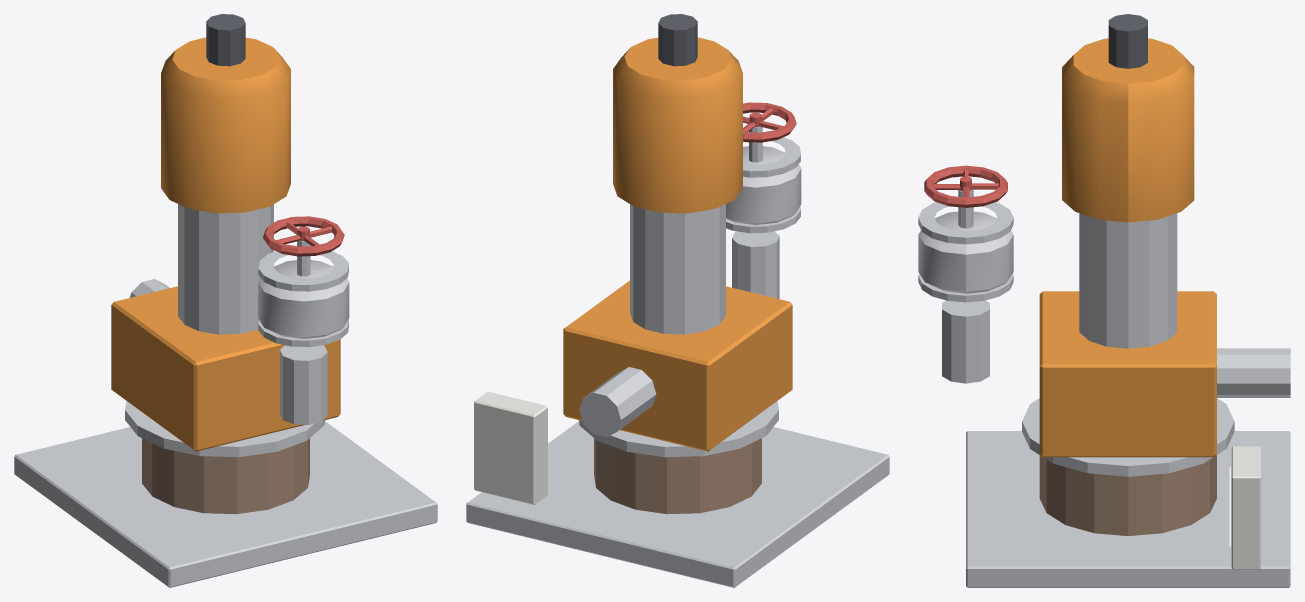
Rendered from offshore-oil-rig-and-platform-seawater-lift-pump-skid-f88eb649__37038.glb.
3 views of the same model, side by side, from view 1: azimuth 30°, elevation 25°; view 2: azimuth 150°, elevation 25°; view 3: azimuth 270°, elevation 25° (orthographic). The views are drawn at different scales.
Parts seen in each view (by area): view 1: seawater-lift-pump-skid, handwheel-seawater; view 2: seawater-lift-pump-skid, handwheel-seawater; view 3: seawater-lift-pump-skid, handwheel-seawater.
Boxes of the visible parts, box(x1,y1,x2,y2) form: seawater-lift-pump-skid: box(14, 14, 437, 587); handwheel-seawater: box(263, 216, 344, 256); seawater-lift-pump-skid: box(466, 14, 889, 587); handwheel-seawater: box(743, 102, 796, 142); seawater-lift-pump-skid: box(918, 14, 1290, 587); handwheel-seawater: box(924, 165, 1007, 207).
Bounding box in the file's own units: 2.25 × 3.72 × 2.52.
